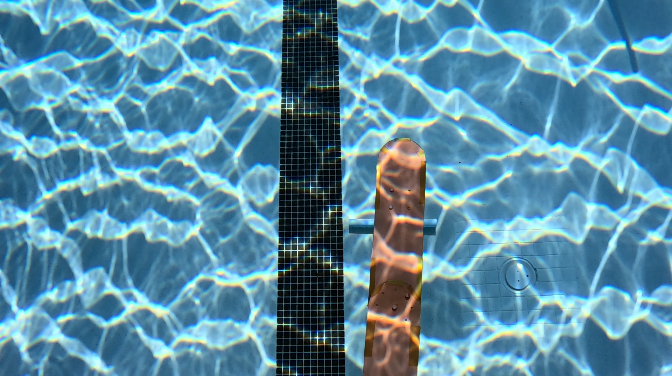pathmarker: (363, 137, 425, 374)
